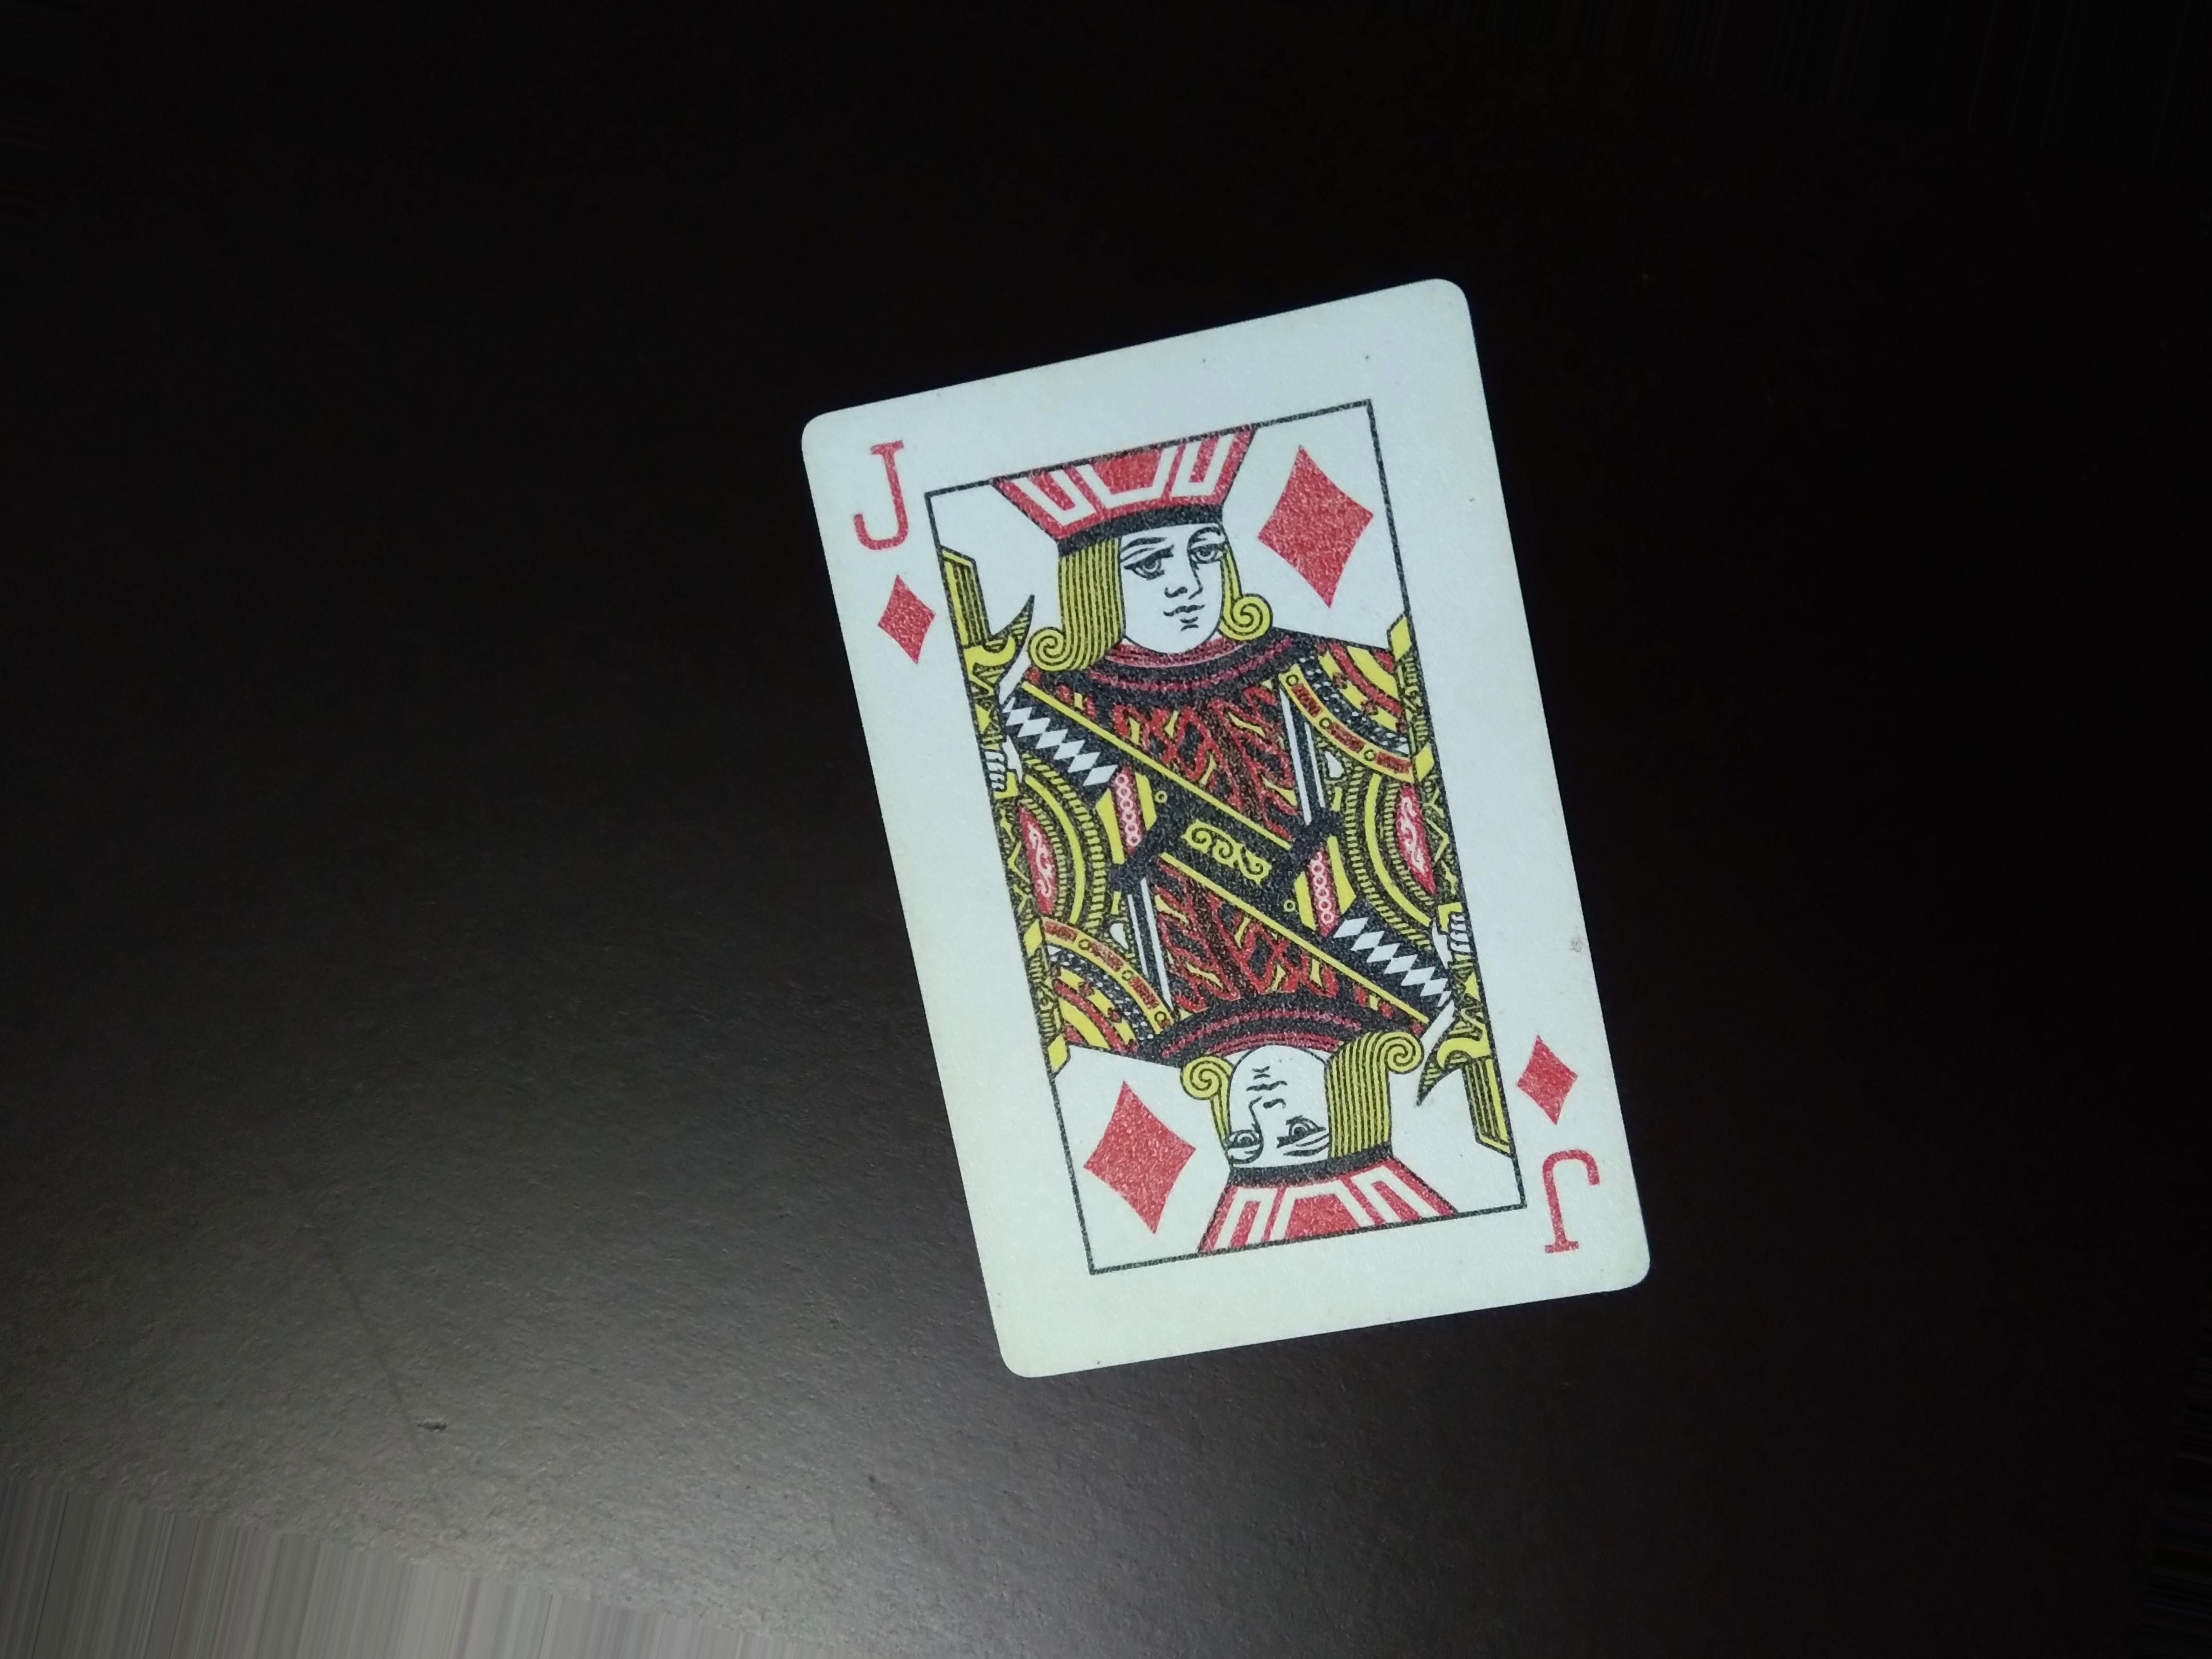JD: (855, 423, 944, 678)
